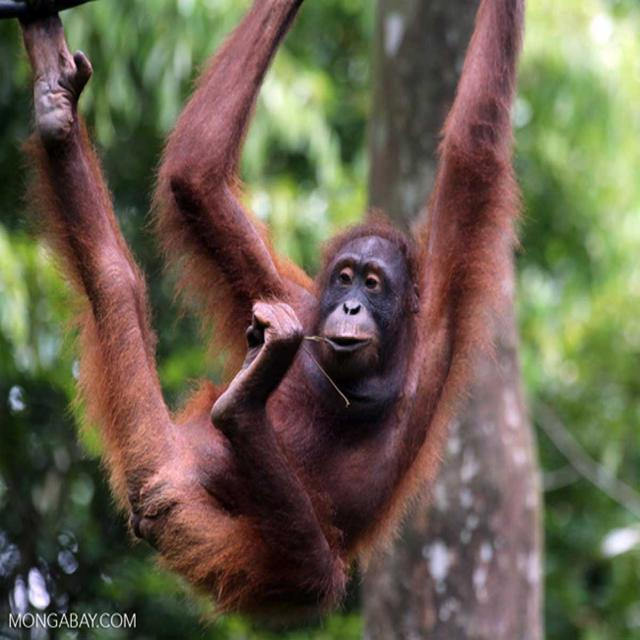Orangutan: (49, 7, 526, 598)
